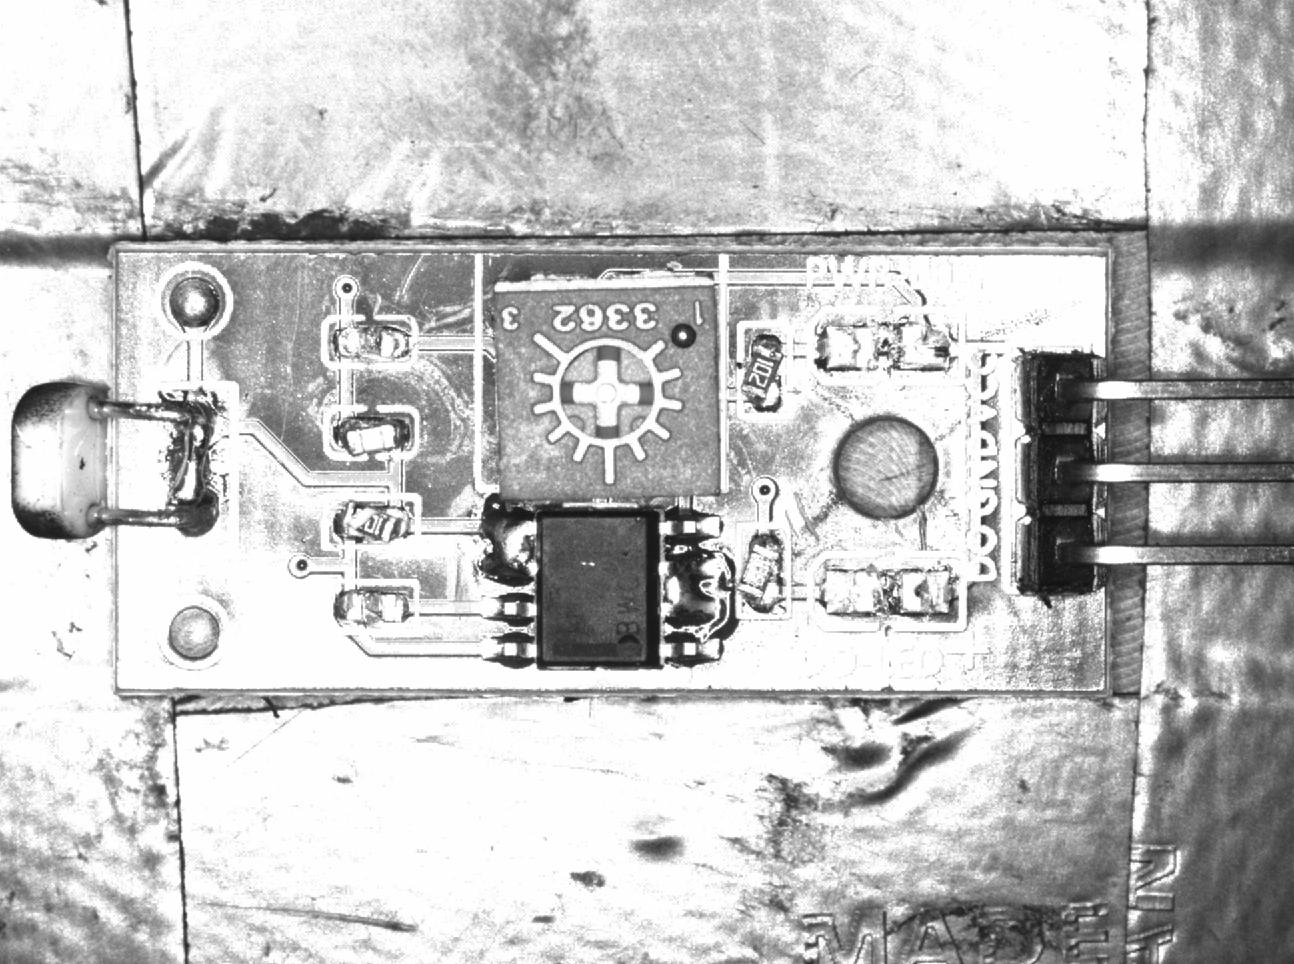bridge: (161, 379, 232, 538), (657, 546, 729, 636), (473, 504, 539, 587)
lifted: (319, 493, 422, 548), (320, 406, 421, 462), (737, 324, 789, 420), (742, 523, 788, 619)
miss: (321, 579, 416, 636), (323, 314, 415, 369)
